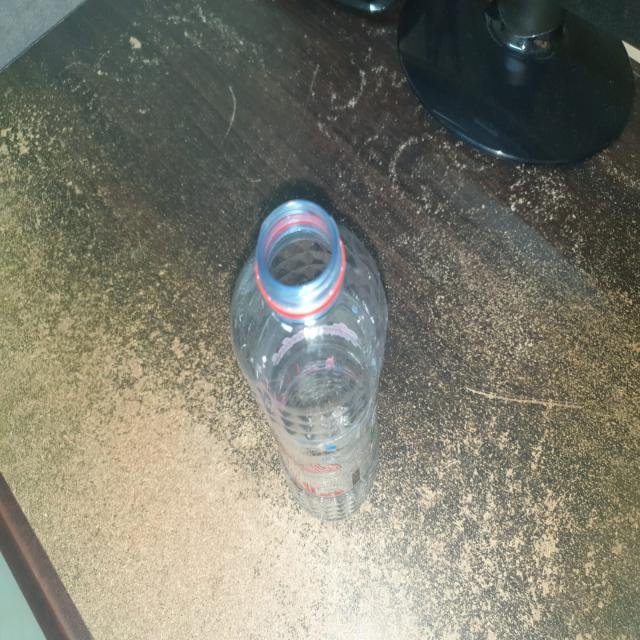plastic bottle: (227, 190, 391, 528)
